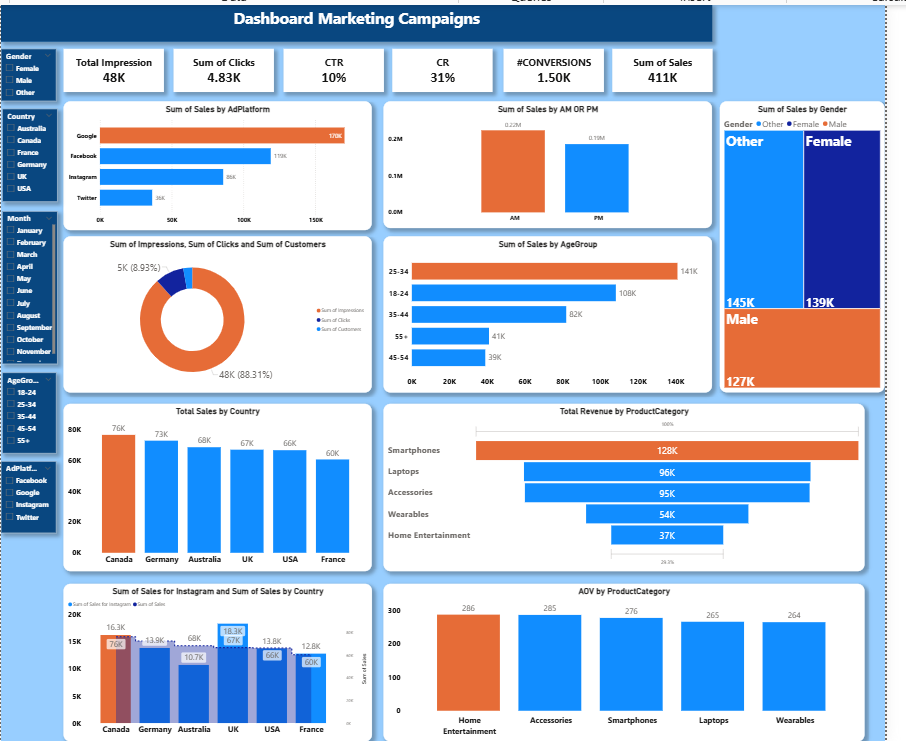

This screenshot's page, from the dashboard's own definition file:
{"tool":"powerbi","page":{"name":"Page 1","canvas":[2400,2000],"ordinal":0},"visuals":[{"type":"clusteredBarChart","fields":{"Category":["FitBitDataMarketing.AdPlatform"],"Y":["Sum(FitBitDataMarketing.Sales)"]},"box":[170,262.5,837.5,350],"z":0},{"type":"columnChart","fields":{"Y":["Sum(FitBitDataMarketing.Sales)"],"Category":["FitBitDataMarketing.AM OR PM"]},"box":[1040,262.5,892.5,345],"z":1000},{"type":"columnChart","title":"Total Sales by Country","fields":{"Category":["FitBitDataMarketing.Country"],"Y":["Sum(FitBitDataMarketing.Sales)"]},"box":[170,1082.5,837.5,455],"z":2000},{"type":"barChart","fields":{"Category":["FitBitDataMarketing.AgeGroup"],"Y":["Sum(FitBitDataMarketing.Sales)"]},"box":[1040,627.5,892.5,425],"z":3000},{"type":"textbox","box":[0,0,1932.5,100],"z":4000},{"type":"slicer","fields":{"Values":["FitBitDataMarketing.Gender"]},"box":[0,120,150,142.5],"z":5000},{"type":"slicer","fields":{"Values":["FitBitDataMarketing.DateTime.Variation.Date Hierarchy.Month"]},"box":[2.5,560,150,415],"z":6000},{"type":"cardVisual","fields":{"Data":["Sum(FitBitDataMarketing.Impressions)"]},"box":[170,120,272.5,117.5],"z":7000},{"type":"cardVisual","fields":{"Data":["Sum(FitBitDataMarketing.Clicks)"]},"box":[470,120,272.5,117.5],"z":8000},{"type":"cardVisual","fields":{"Data":["FitBitDataMarketing.CTR"]},"box":[767.5,120,272.5,117.5],"z":9000},{"type":"cardVisual","fields":{"Data":["FitBitDataMarketing.CR"]},"box":[1062.5,120,272.5,117.5],"z":10000},{"type":"cardVisual","fields":{"Data":["FitBitDataMarketing.#CONVERSIONS"]},"box":[1365,120,272.5,117.5],"z":11000},{"type":"funnel","fields":{"Category":["FitBitDataMarketing.ProductCategory"],"Y":["FitBitDataMarketing.Total Revenue"]},"box":[1040,1082.5,1307.5,455],"z":12000},{"type":"slicer","fields":{"Values":["FitBitDataMarketing.Country"]},"box":[2.5,282.5,150,252.5],"z":13000},{"type":"slicer","fields":{"Values":["FitBitDataMarketing.AgeGroup"]},"box":[2.5,1000,147.5,220],"z":14000},{"type":"slicer","fields":{"Values":["FitBitDataMarketing.AdPlatform"]},"box":[0,1240,150,195],"z":15000},{"type":"cardVisual","fields":{"Data":["Sum(FitBitDataMarketing.Sales)"]},"box":[1660,120,272.5,117.5],"z":16000},{"type":"donutChart","fields":{"Y":["Sum(FitBitDataMarketing.Impressions)","Sum(FitBitDataMarketing.Clicks)","Sum(FitBitDataMarketing.Customers)"]},"box":[170,627.5,837.5,425],"z":17000},{"type":"lineClusteredColumnComboChart","fields":{"Category":["FitBitDataMarketing.Country"],"Y2":["Sum(FitBitDataMarketing.Sales)"],"Y":["FilteredEval(Sum(FitBitDataMarketing.Sales), [{Condition(expr)}])"]},"box":[169.9,1571.2,838.1,429.1],"z":18000},{"type":"clusteredColumnChart","fields":{"Y":["FitBitDataMarketing.AOV"],"Category":["FitBitDataMarketing.ProductCategory"]},"box":[1039.3,1571.2,1307.5,429.1],"z":19000},{"type":"treemap","fields":{"Group":["FitBitDataMarketing.Gender"],"Values":["Sum(FitBitDataMarketing.Sales)"]},"box":[1953.1,261.6,448.4,791.4],"z":20000}]}

Visuals, with their boxes on the page's 2400x2000 design canvas (x1, y1, x2, y2). These are canvas units, not pixel positions in the 906x741 screenshot, which may show the page scaled, cropped or inside an application window:
clusteredBarChart - FitBitDataMarketing.AdPlatform x Sum(FitBitDataMarketing.Sales): 170, 262, 1008, 612
columnChart - Sum(FitBitDataMarketing.Sales) x FitBitDataMarketing.AM OR PM: 1040, 262, 1932, 608
"Total Sales by Country" columnChart: 170, 1082, 1008, 1538
barChart - FitBitDataMarketing.AgeGroup x Sum(FitBitDataMarketing.Sales): 1040, 628, 1932, 1052
textbox: 0, 0, 1932, 100
slicer - FitBitDataMarketing.Gender: 0, 120, 150, 262
slicer - FitBitDataMarketing.DateTime.Variation.Date Hierarchy.Month: 2, 560, 152, 975
cardVisual - Sum(FitBitDataMarketing.Impressions): 170, 120, 442, 238
cardVisual - Sum(FitBitDataMarketing.Clicks): 470, 120, 742, 238
cardVisual - FitBitDataMarketing.CTR: 768, 120, 1040, 238
cardVisual - FitBitDataMarketing.CR: 1062, 120, 1335, 238
cardVisual - FitBitDataMarketing.#CONVERSIONS: 1365, 120, 1638, 238
funnel - FitBitDataMarketing.ProductCategory x FitBitDataMarketing.Total Revenue: 1040, 1082, 2348, 1538
slicer - FitBitDataMarketing.Country: 2, 282, 152, 535
slicer - FitBitDataMarketing.AgeGroup: 2, 1000, 150, 1220
slicer - FitBitDataMarketing.AdPlatform: 0, 1240, 150, 1435
cardVisual - Sum(FitBitDataMarketing.Sales): 1660, 120, 1932, 238
donutChart - Sum(FitBitDataMarketing.Impressions) x Sum(FitBitDataMarketing.Clicks): 170, 628, 1008, 1052
lineClusteredColumnComboChart - FitBitDataMarketing.Country x Sum(FitBitDataMarketing.Sales): 170, 1571, 1008, 2000
clusteredColumnChart - FitBitDataMarketing.AOV x FitBitDataMarketing.ProductCategory: 1039, 1571, 2347, 2000
treemap - FitBitDataMarketing.Gender x Sum(FitBitDataMarketing.Sales): 1953, 262, 2402, 1053
